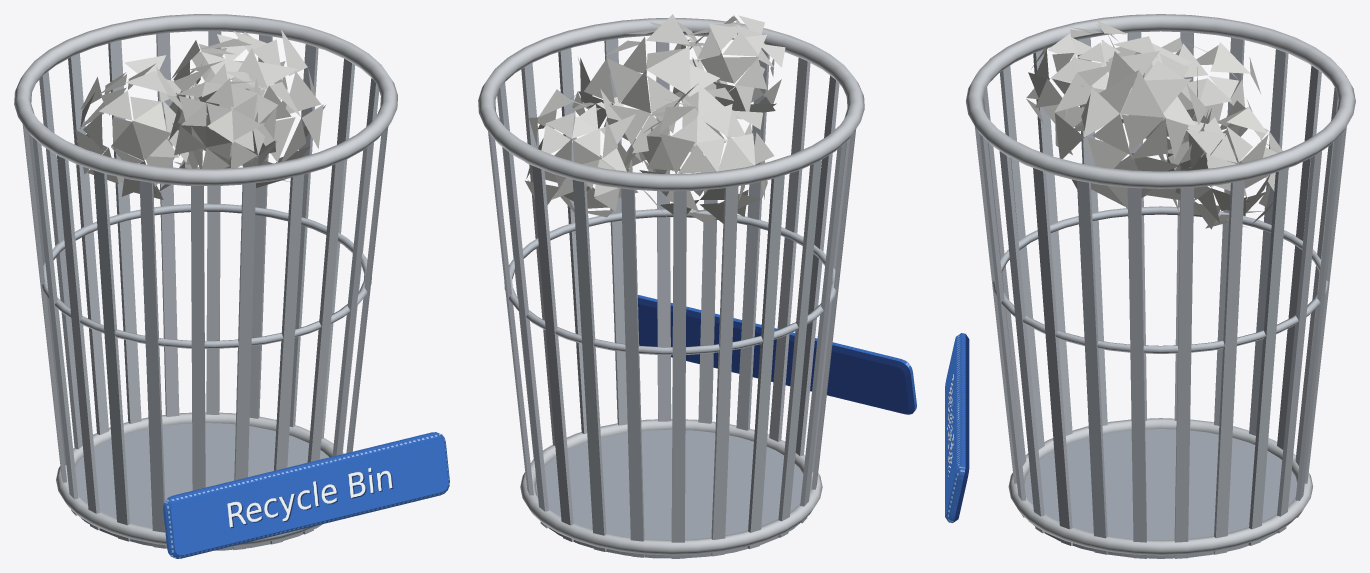
The model's file is recycle-bin.glb.
3 views of the same model, side by side, from view 1: azimuth 30°, elevation 25°; view 2: azimuth 150°, elevation 25°; view 3: azimuth 270°, elevation 25° (orthographic).
Parts seen in each view (by area): view 1: bin, label; view 2: bin, label; view 3: bin, label.
Boxes of the visible parts, x1=… form: bin: x1=14, y1=14, x2=397, y2=550; label: x1=163, y1=432, x2=449, y2=558; bin: x1=478, y1=14, x2=864, y2=558; label: x1=638, y1=295, x2=916, y2=414; bin: x1=966, y1=14, x2=1355, y2=558; label: x1=945, y1=333, x2=969, y2=522.
Size of the model in its own units: 0.356 by 0.4685 by 0.3749.
2 materials, 1 textured.
